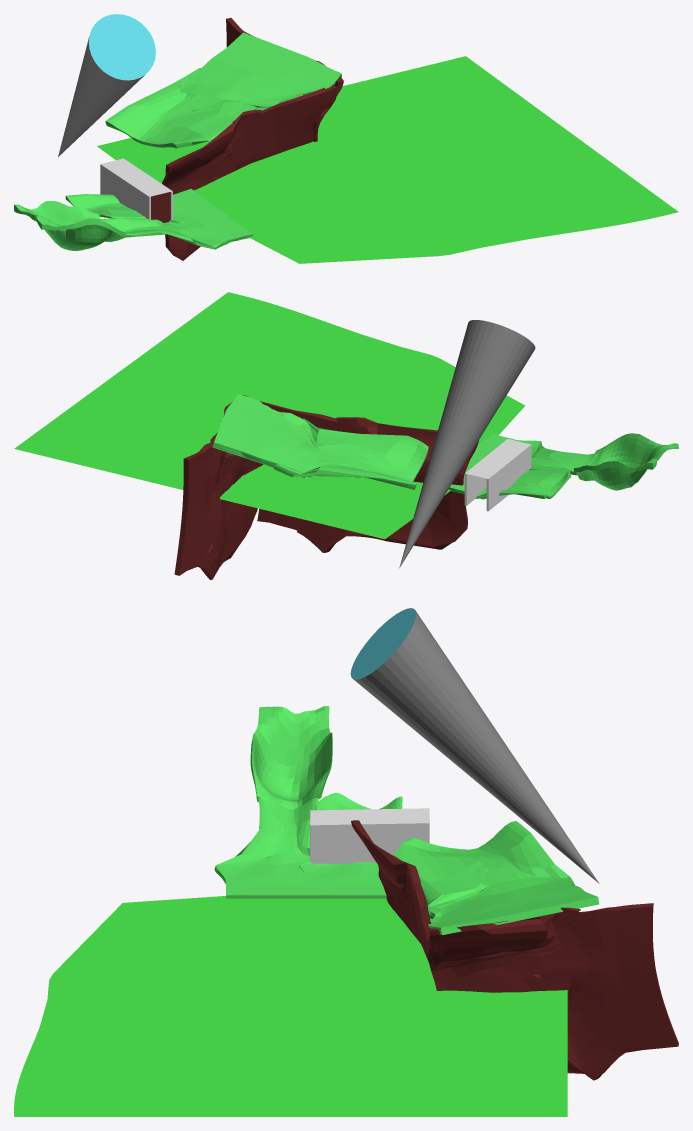
The picture shows the model from 3 angles, top to bottom: view 1: azimuth 30°, elevation 25°; view 2: azimuth 150°, elevation 25°; view 3: azimuth 270°, elevation 25°; orthographic projection. The views are drawn at different scales.
Parts seen in each view (by area): view 1: Plane, Cube.007, Cube.004, Cone.001, Cone, Cube.001, Cube, Cube.005, Cube.006, Cube.008, Cube.002; view 2: Plane, Cube.007, Cone, Cube.008, Cube.004, Cube.001, Cube.005, Cube, Cube.006, Cube.003; view 3: Plane, Cube.008, Cone, Cube.007, Cube.001, Cube, Cube.003, Cube.004, Cube.006, Cone.001, Cube.005.
Part boxes in pixels (x1,y1,x2,y2): Plane: [97, 56, 678, 263]; Cube.007: [105, 32, 341, 148]; Cube.004: [162, 85, 337, 260]; Cone.001: [88, 14, 155, 80]; Cone: [58, 37, 144, 156]; Cube.001: [14, 201, 125, 250]; Cube: [101, 210, 252, 249]; Cube.005: [100, 159, 170, 219]; Cube.006: [65, 189, 220, 223]; Cube.008: [226, 18, 343, 141]; Cube.002: [151, 192, 170, 222]; Plane: [14, 292, 525, 539]; Cube.007: [212, 394, 428, 489]; Cone: [399, 320, 535, 568]; Cube.008: [174, 395, 263, 579]; Cube.004: [257, 401, 478, 552]; Cube.001: [574, 433, 678, 490]; Cube.005: [467, 439, 531, 511]; Cube: [470, 434, 598, 475]; Cube.006: [448, 460, 571, 499]; Cube.003: [464, 439, 508, 505]; Plane: [14, 896, 567, 1116]; Cube.008: [427, 903, 678, 1080]; Cone: [353, 611, 599, 883]; Cube.007: [394, 821, 599, 934]; Cube.001: [250, 706, 332, 809]; Cube: [214, 793, 318, 898]; Cube.003: [310, 822, 429, 863]; Cube.004: [351, 820, 440, 967]; Cube.006: [299, 793, 402, 898]; Cone.001: [350, 608, 416, 679]; Cube.005: [310, 808, 429, 824].
Bounding box in the file's own units: 258 × 117 × 210.
